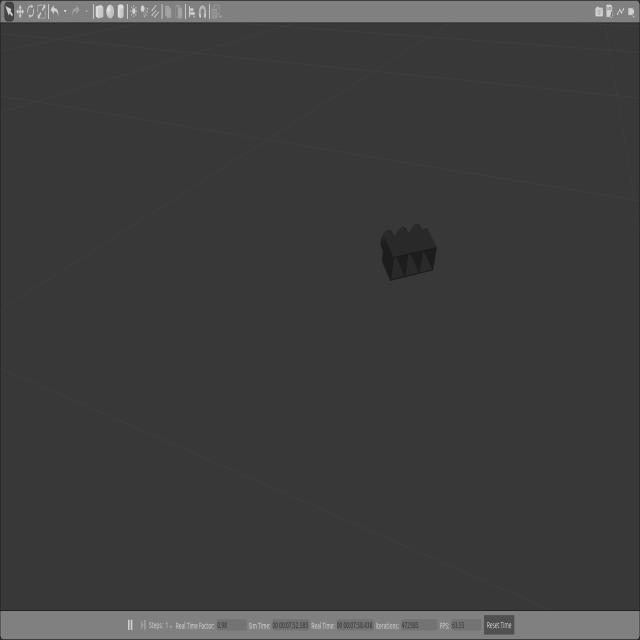block6: (380, 223, 437, 280)
